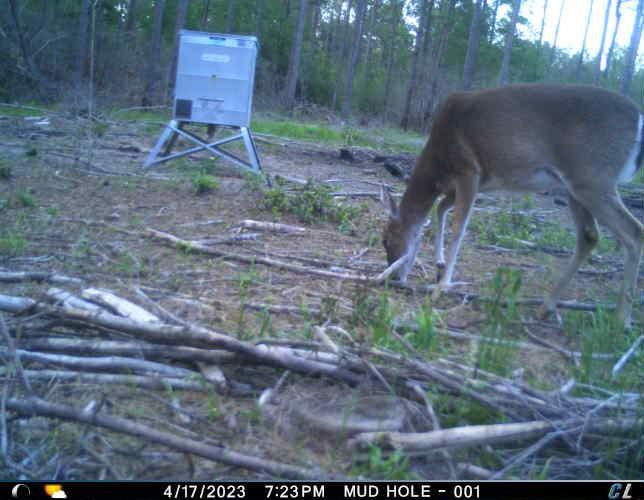Deer: (378, 80, 644, 334)
